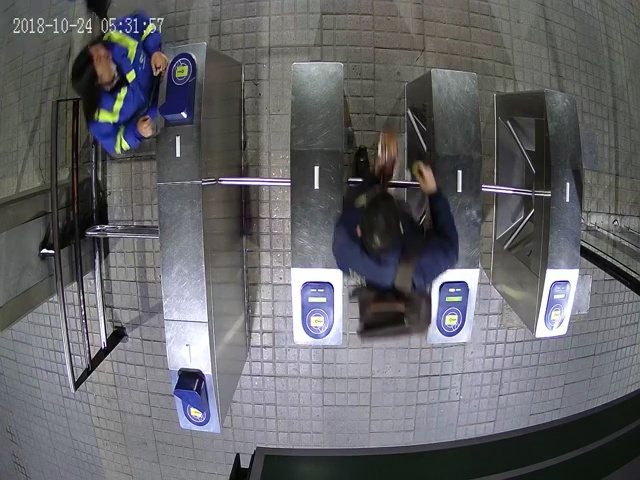Chaleco_azul: (72, 15, 169, 154)
